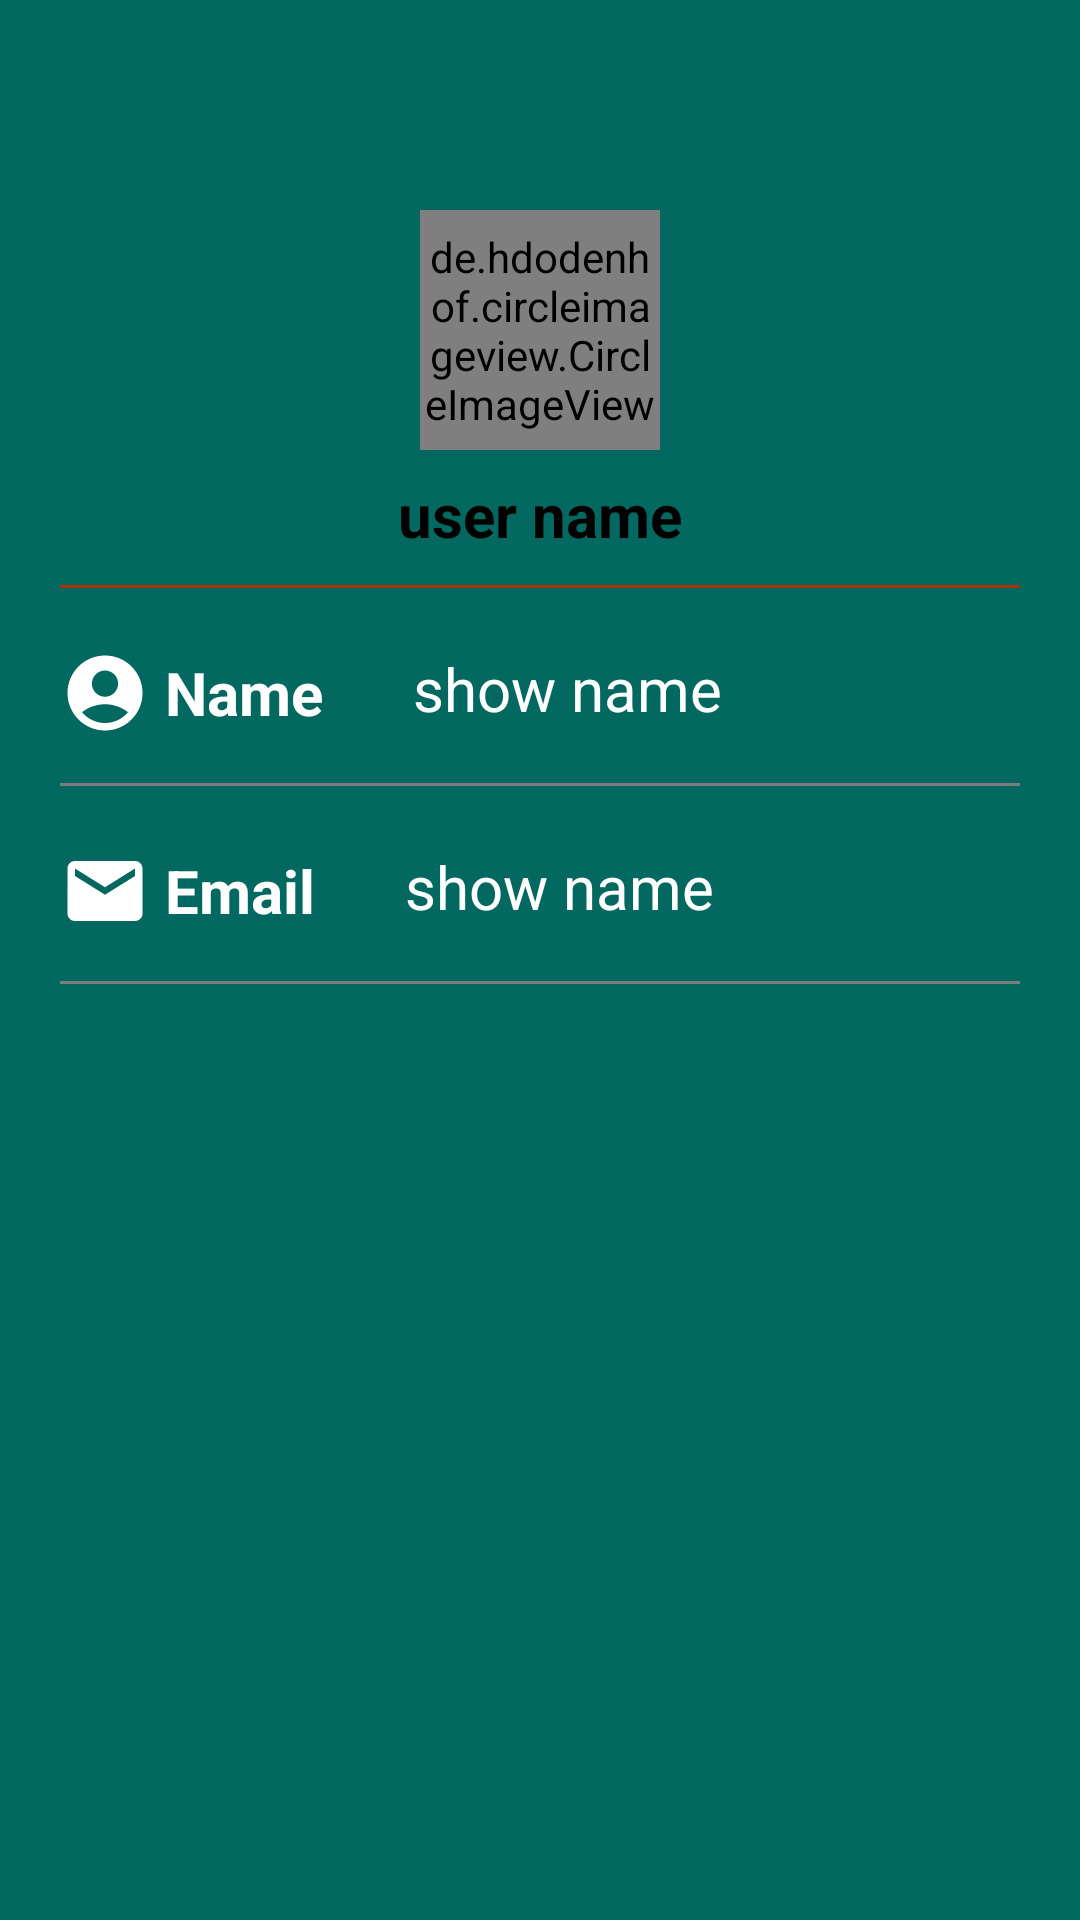

Screen size 1080 x 1920. Icon name, then its box in pixels as bbox=[x1, y1, x2, y2]:
account circle: bbox=[67, 655, 143, 731]
